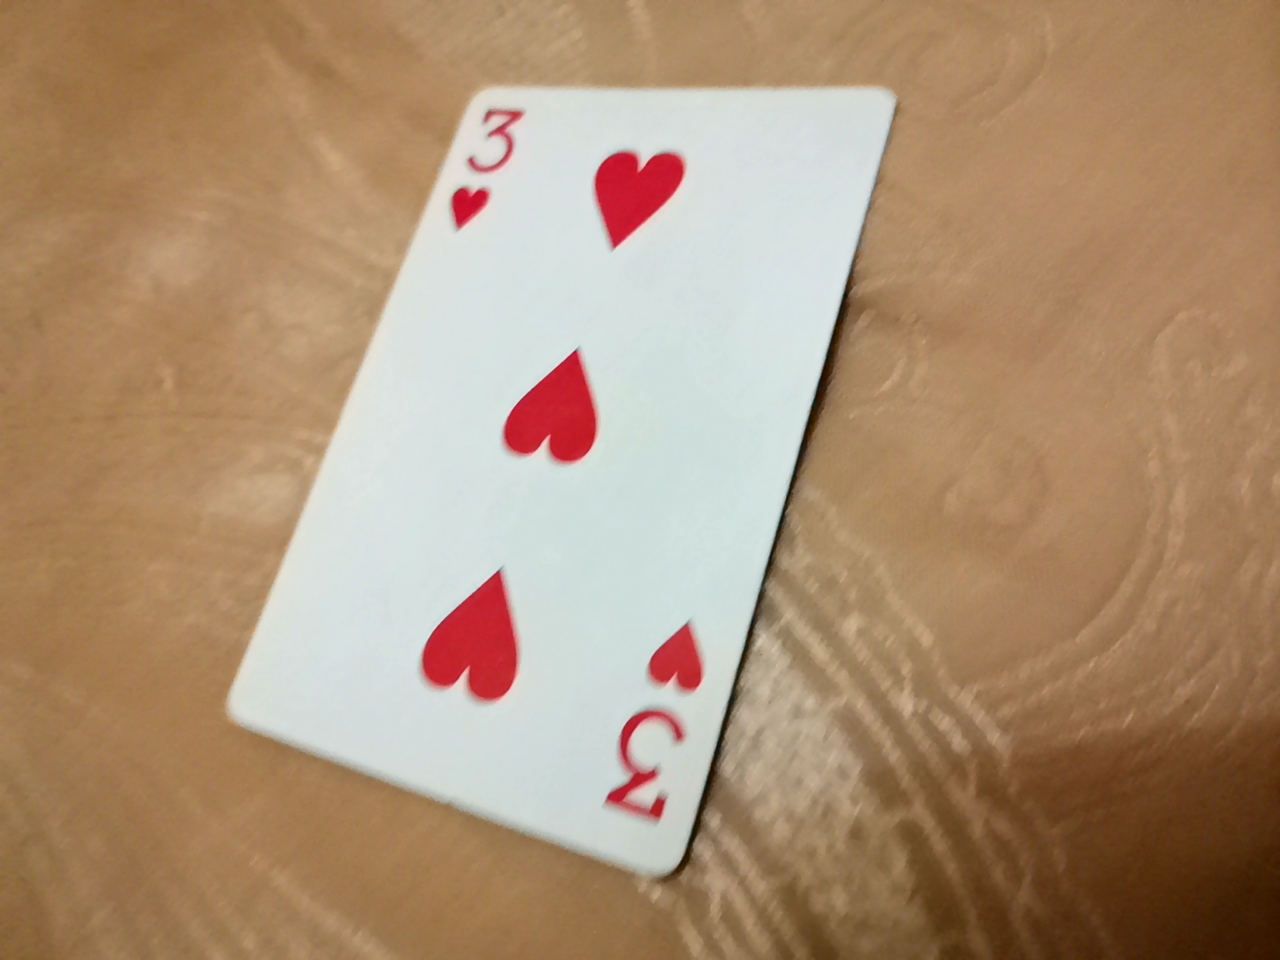hx 3: (221, 128, 888, 928)
